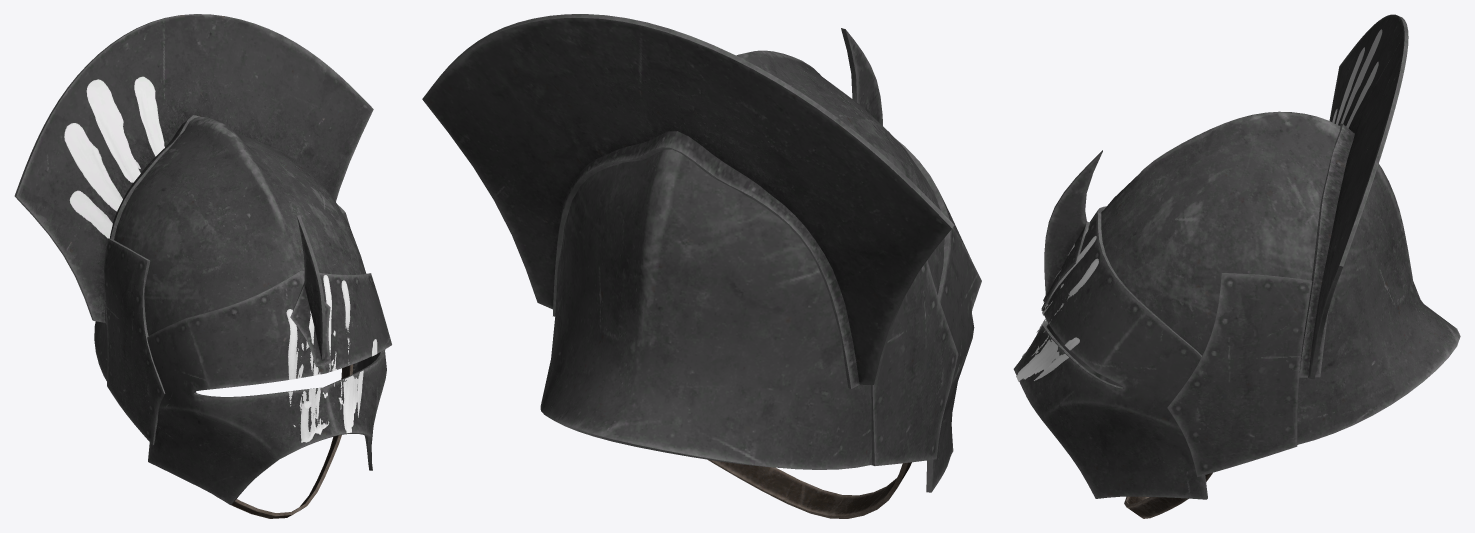
The model's file is sk_uruk_hai_helmet_spear_heavy_a3.fbx.
The picture shows the model from 3 angles, left to right: view 1: azimuth 30°, elevation 25°; view 2: azimuth 150°, elevation 25°; view 3: azimuth 270°, elevation 25°; orthographic projection. The views are drawn at different scales.
Visible parts, largest first — view 1: sk_uruk_hai_helmet_spear_heavy_a3.2, sk_uruk_hai_helmet_spear_heavy_a3.0, sk_uruk_hai_helmet_spear_heavy_a3.1; view 2: sk_uruk_hai_helmet_spear_heavy_a3.2, sk_uruk_hai_helmet_spear_heavy_a3.1; view 3: sk_uruk_hai_helmet_spear_heavy_a3.2, sk_uruk_hai_helmet_spear_heavy_a3.0, sk_uruk_hai_helmet_spear_heavy_a3.1.
Boxes of the visible parts, x1,y1,x2,y2 form: sk_uruk_hai_helmet_spear_heavy_a3.2: (14,14,391,504); sk_uruk_hai_helmet_spear_heavy_a3.0: (64,76,377,442); sk_uruk_hai_helmet_spear_heavy_a3.1: (216,364,353,518); sk_uruk_hai_helmet_spear_heavy_a3.2: (422,14,981,492); sk_uruk_hai_helmet_spear_heavy_a3.1: (708,459,911,518); sk_uruk_hai_helmet_spear_heavy_a3.2: (1013,14,1460,499); sk_uruk_hai_helmet_spear_heavy_a3.0: (1016,29,1382,381); sk_uruk_hai_helmet_spear_heavy_a3.1: (1124,473,1212,518).
Size of the model in its own units: 0.3371 by 0.3205 by 0.3761.
Materials: 3 (3 with a texture image).
